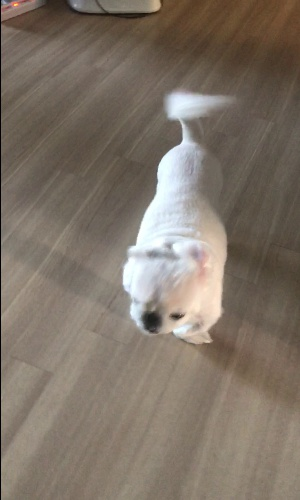ddubi: (120, 84, 239, 348)
